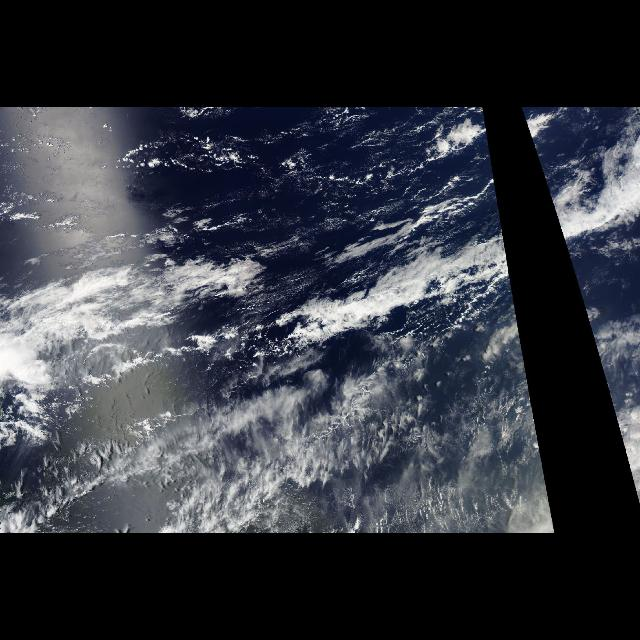Fish: (14, 240, 266, 446)
Gravel: (132, 112, 488, 268)
